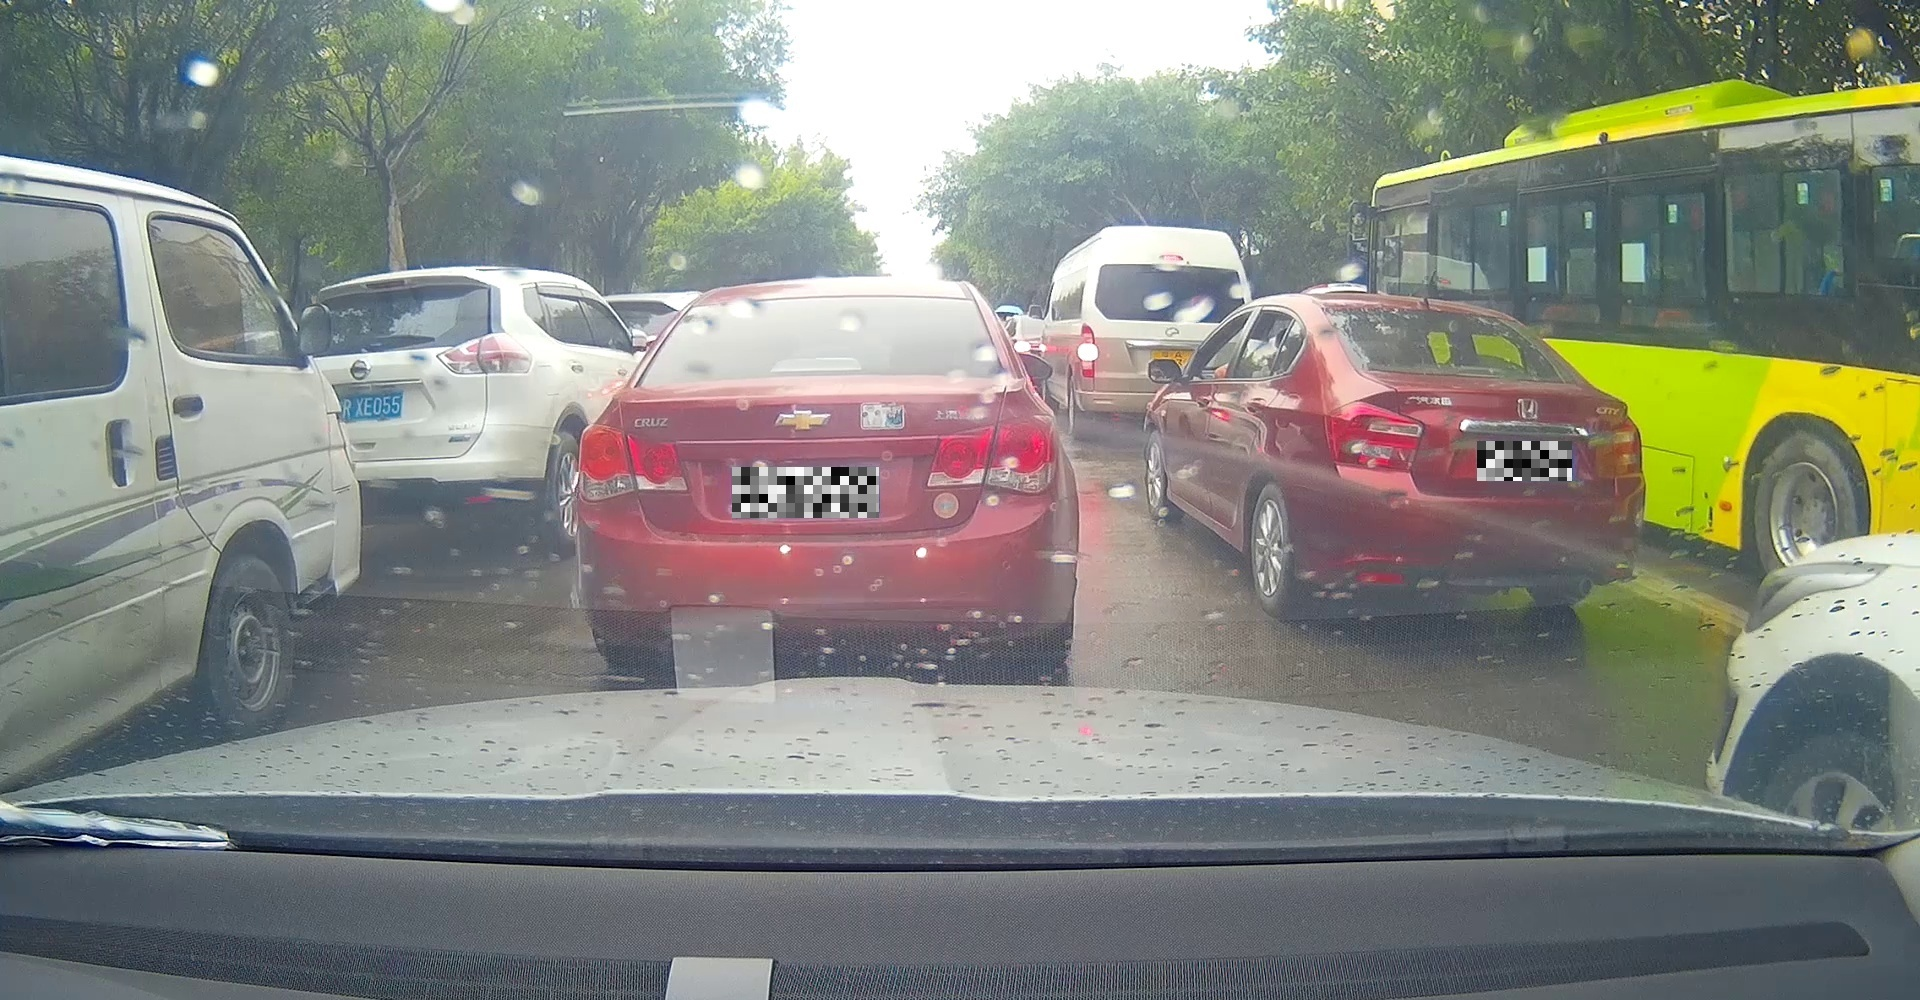L_light: (577, 423, 690, 501), (1324, 401, 1422, 470)
R_light: (926, 416, 1060, 494), (1611, 415, 1642, 475)
T_light: (772, 357, 861, 371), (1455, 365, 1505, 377)
day-no: (577, 277, 1079, 669), (1318, 293, 1646, 615)
plate_1: (731, 467, 879, 518)
plate_2: (1477, 442, 1572, 481)
